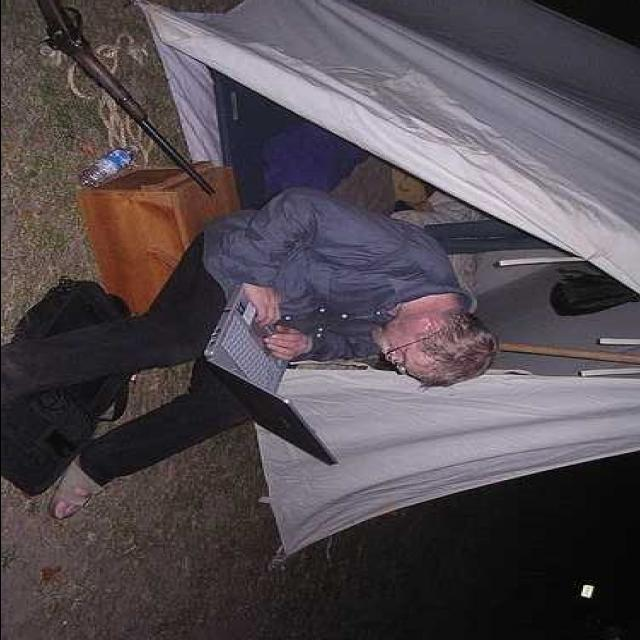laptop: (180, 282, 334, 474)
